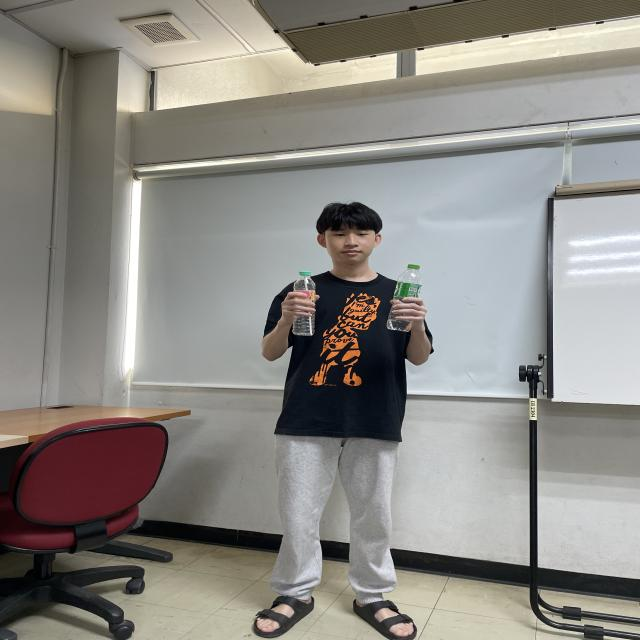bottle: (390, 265, 426, 332), (291, 271, 317, 335)
